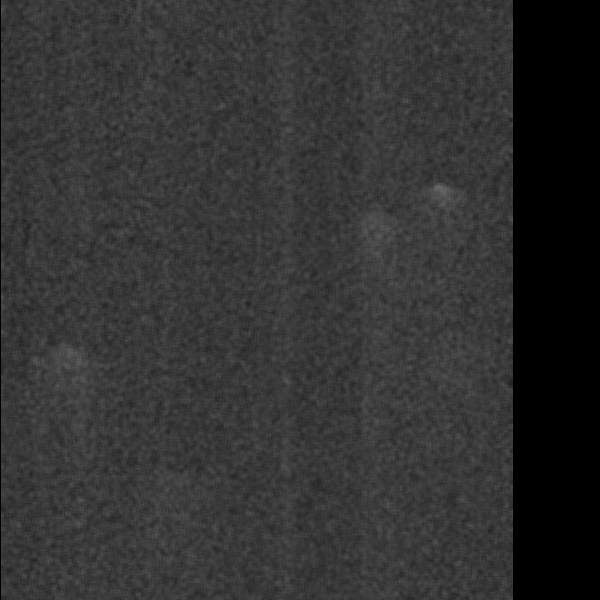spark: (281, 192, 359, 276), (326, 289, 390, 361), (282, 1, 347, 60), (328, 425, 394, 473)
